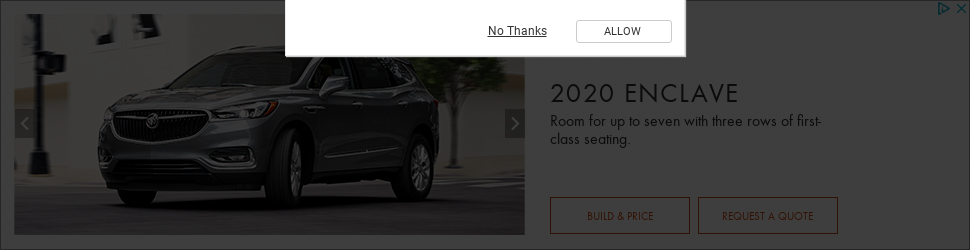fake_button: (695, 191, 844, 243), (543, 192, 693, 237), (563, 12, 677, 51)
